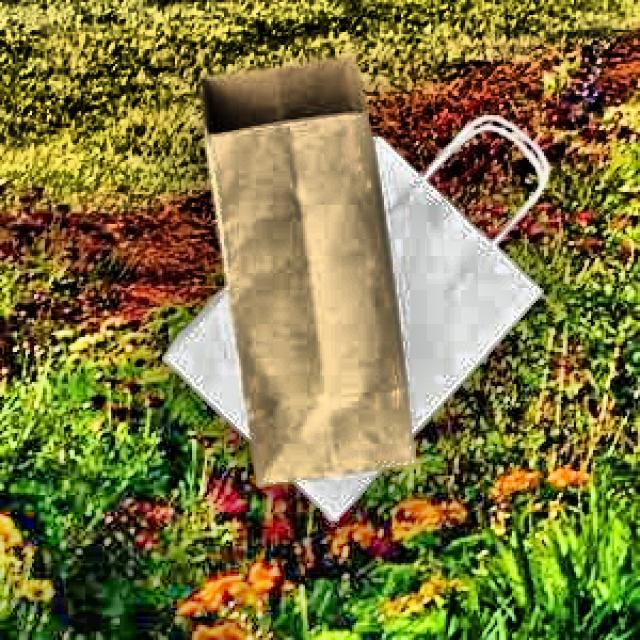Paper-bag: (170, 114, 561, 520), (164, 51, 428, 483)
